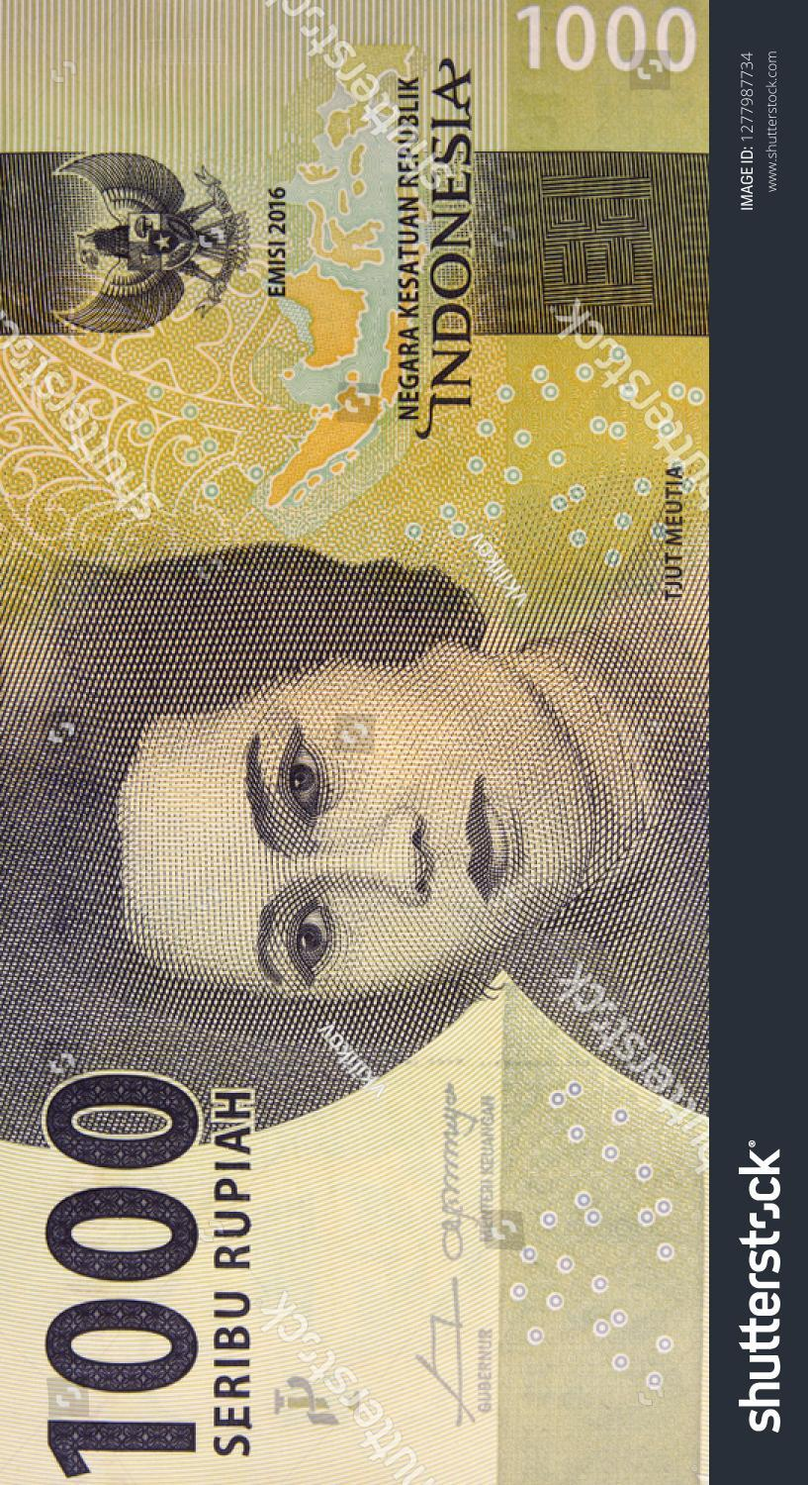1000IndonesianRupiah: (6, 0, 700, 1483)
